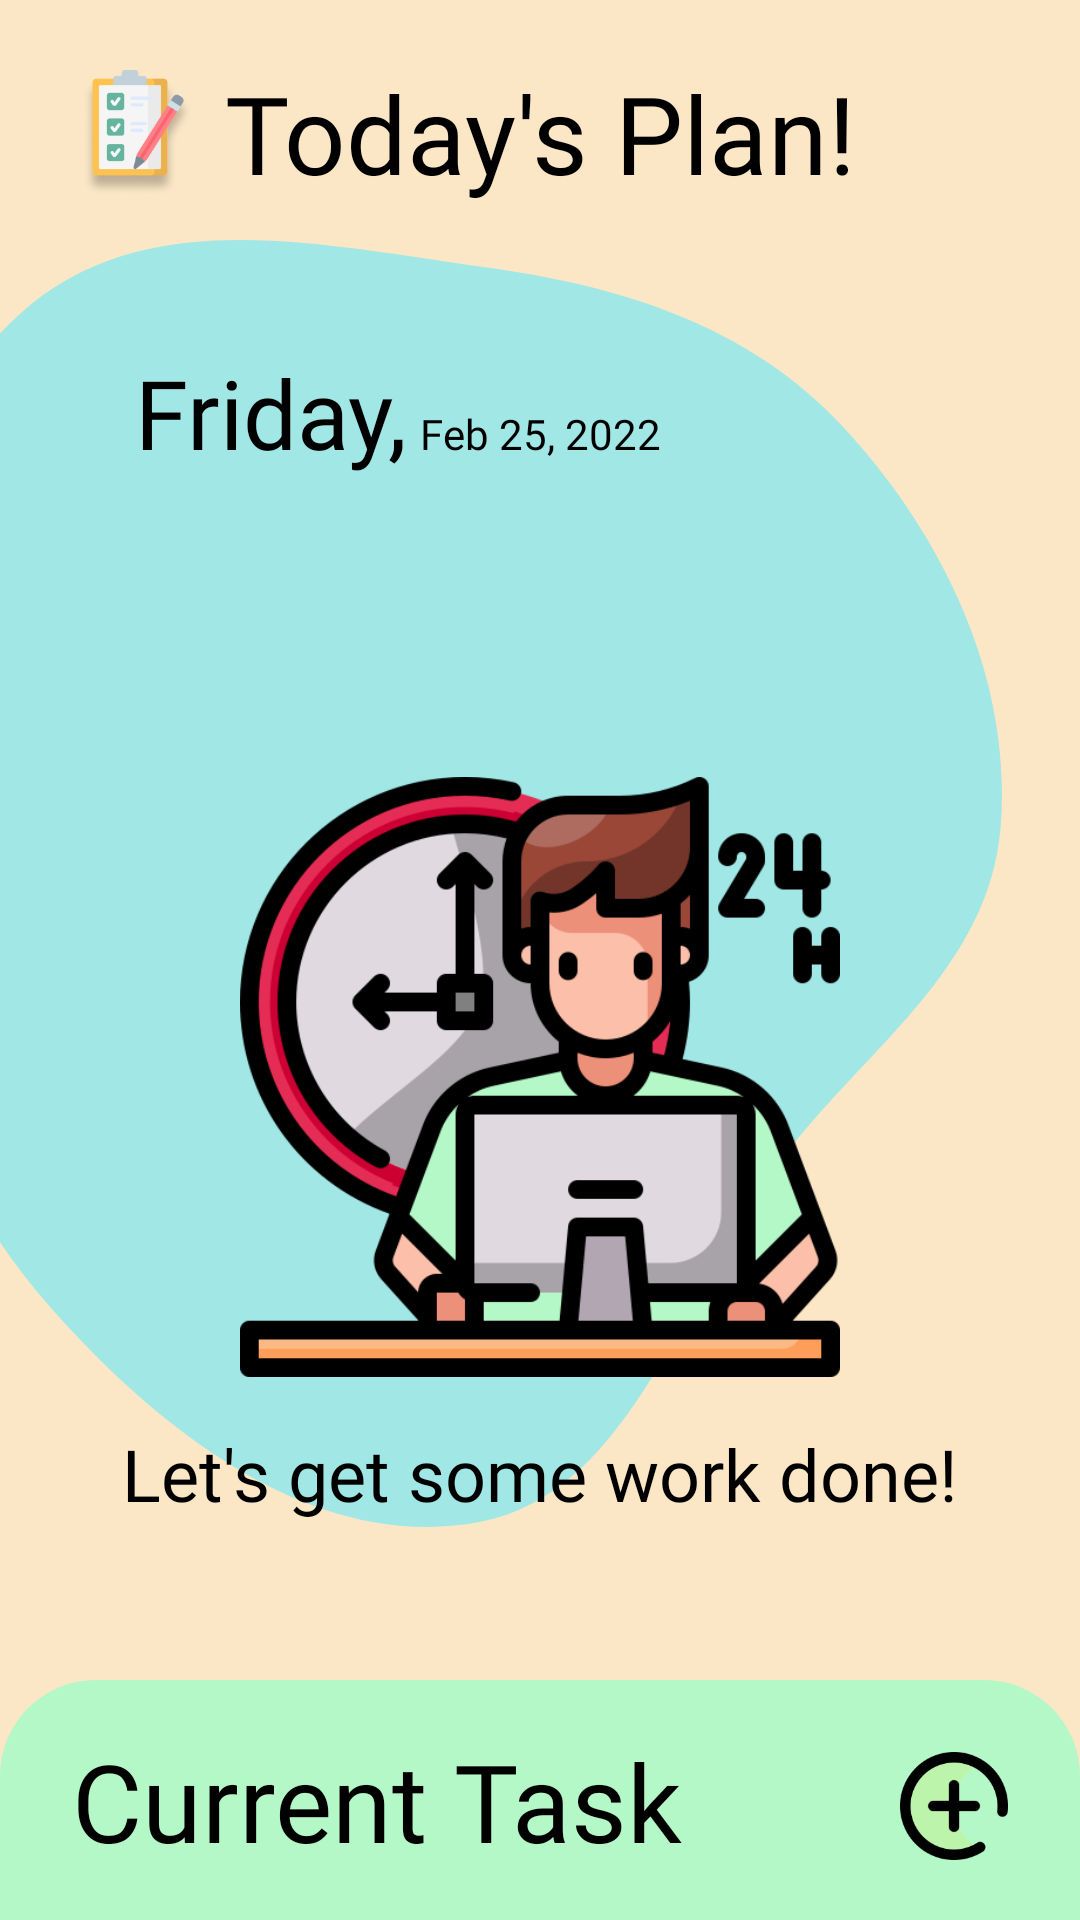

Where to tap for icons on this 1080*1920 app screen, as point (x, y):
add: point (954, 1806)
checklist: point (137, 128)
